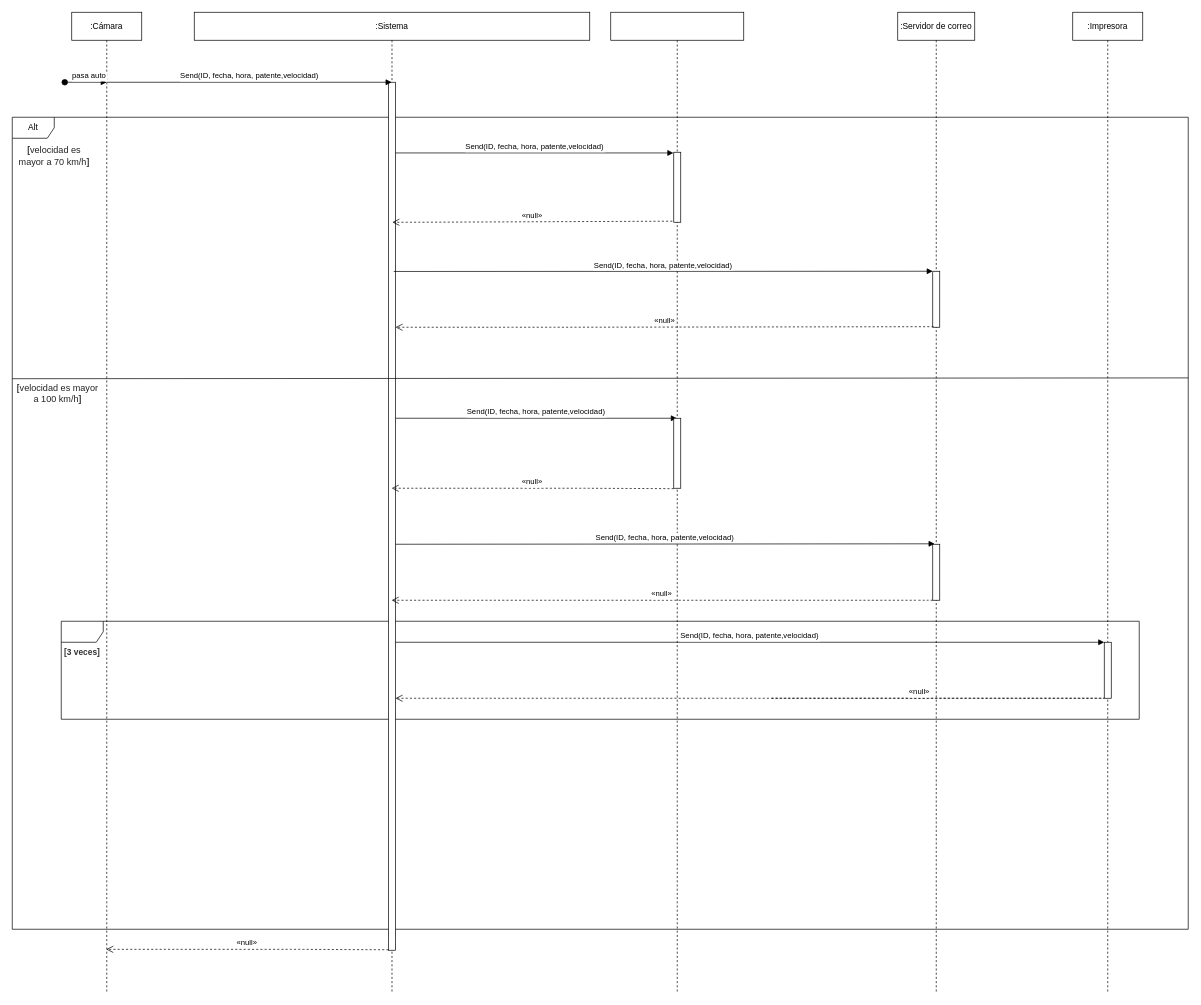
The diagram is 1201 pixels wide and 1005 high, and some of its shapes have lost their labels. Here are the shapes that lost their labels. From the top down, the centre of each, then its label:
At (x=677, y=502): ":API".
At (x=600, y=670): "Loop".
